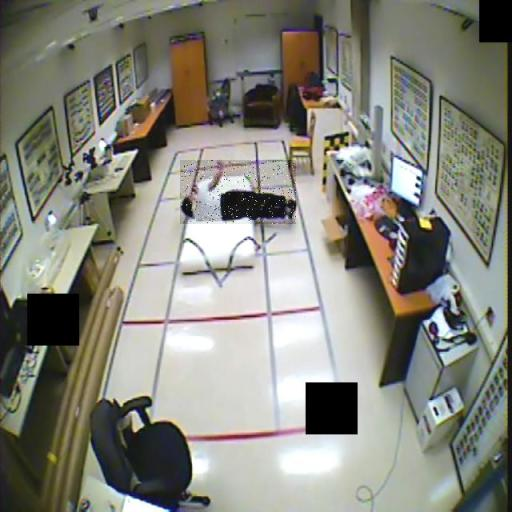Fall: (180, 160, 296, 224)
